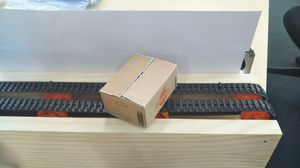box1: (98, 52, 178, 128)
